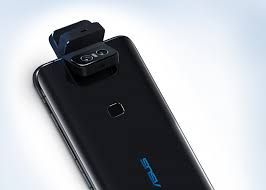asus: (26, 15, 214, 190)
